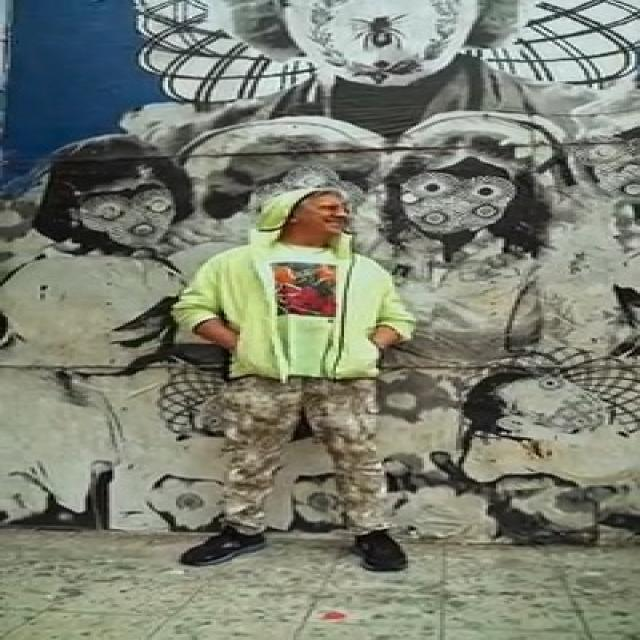Jacket_Wearer: (180, 240, 414, 376)
Person: (166, 180, 414, 550)
